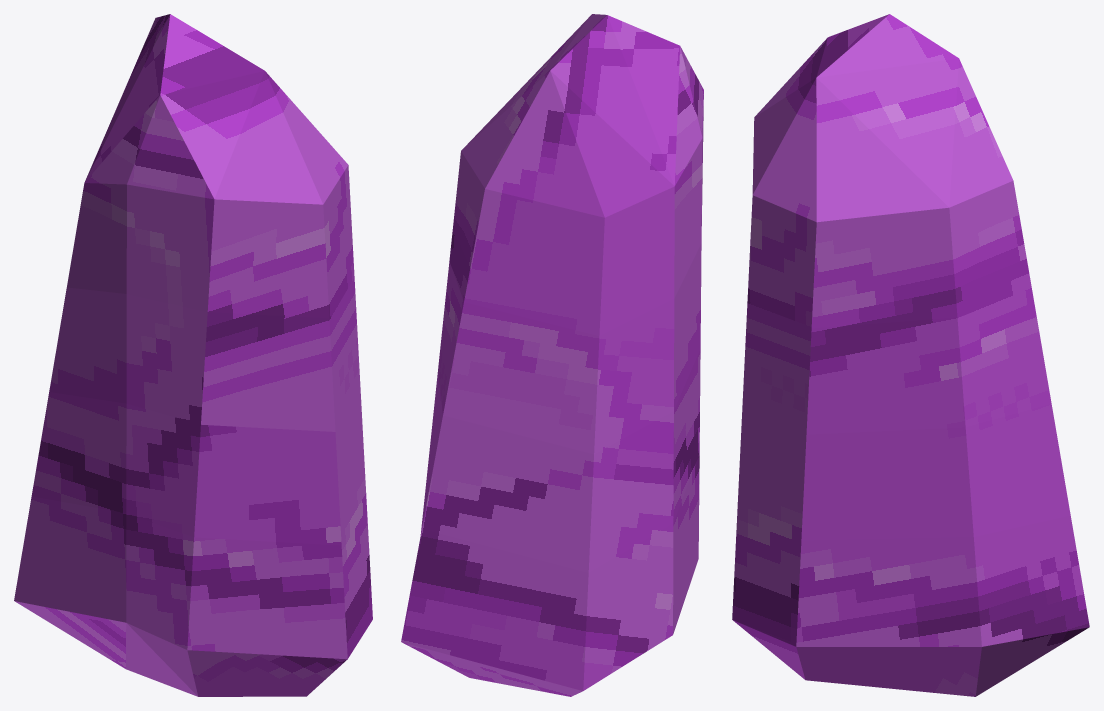
File: kuangwu.fbx
3 views of the same model, side by side, from view 1: azimuth 30°, elevation 25°; view 2: azimuth 150°, elevation 25°; view 3: azimuth 270°, elevation 25° (orthographic). The views are drawn at different scales.
Parts seen in each view (by area): view 1: 立方体.304; view 2: 立方体.304; view 3: 立方体.304.
Part boxes in pixels (bbox=[...]): 立方体.304: bbox=[14, 14, 372, 696]; 立方体.304: bbox=[401, 14, 703, 696]; 立方体.304: bbox=[732, 14, 1089, 696].
Size of the model in its own units: 45.64 by 113 by 57.32.
Materials: 1 (1 with a texture image).
